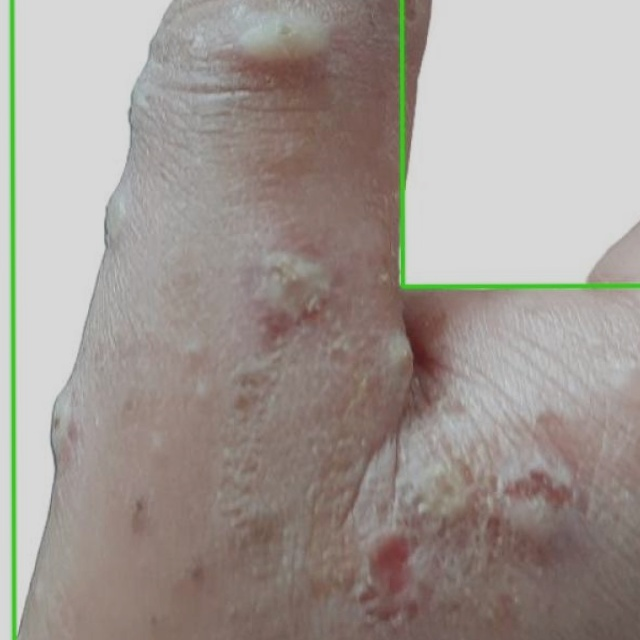Scabies: (12, 0, 639, 639), (400, 0, 639, 287)
